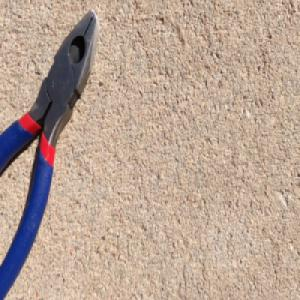Pliers: (0, 6, 100, 300)
